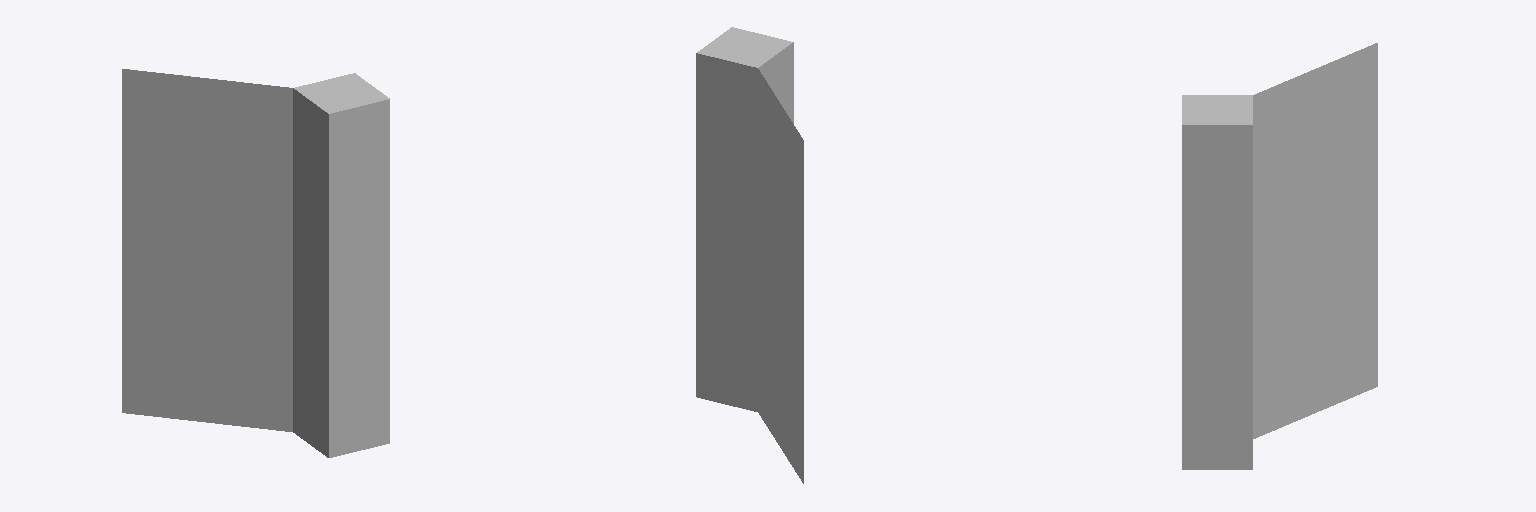
Rendered from bamboo_stem_2.obj.
The picture shows the model from 3 angles: view 1: azimuth 30°, elevation 25°; view 2: azimuth 150°, elevation 25°; view 3: azimuth 270°, elevation 25°; orthographic projection.
Parts seen in each view (by area): view 1: Stem_2_Cube.006; view 2: Stem_2_Cube.006; view 3: Stem_2_Cube.006.
Boxes of the visible parts, x1=… form: Stem_2_Cube.006: x1=122, y1=69, x2=389, y2=457; Stem_2_Cube.006: x1=696, y1=27, x2=803, y2=483; Stem_2_Cube.006: x1=1182, y1=43, x2=1377, y2=469.
Size of the model in its own units: 0.518 by 1 by 0.518.